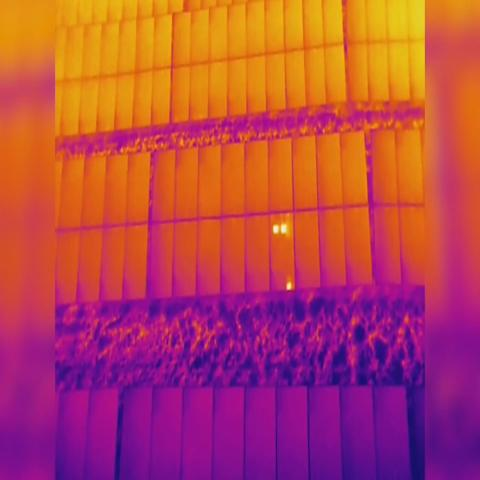fault: (278, 223, 288, 237), (272, 222, 279, 236), (286, 280, 292, 292)
